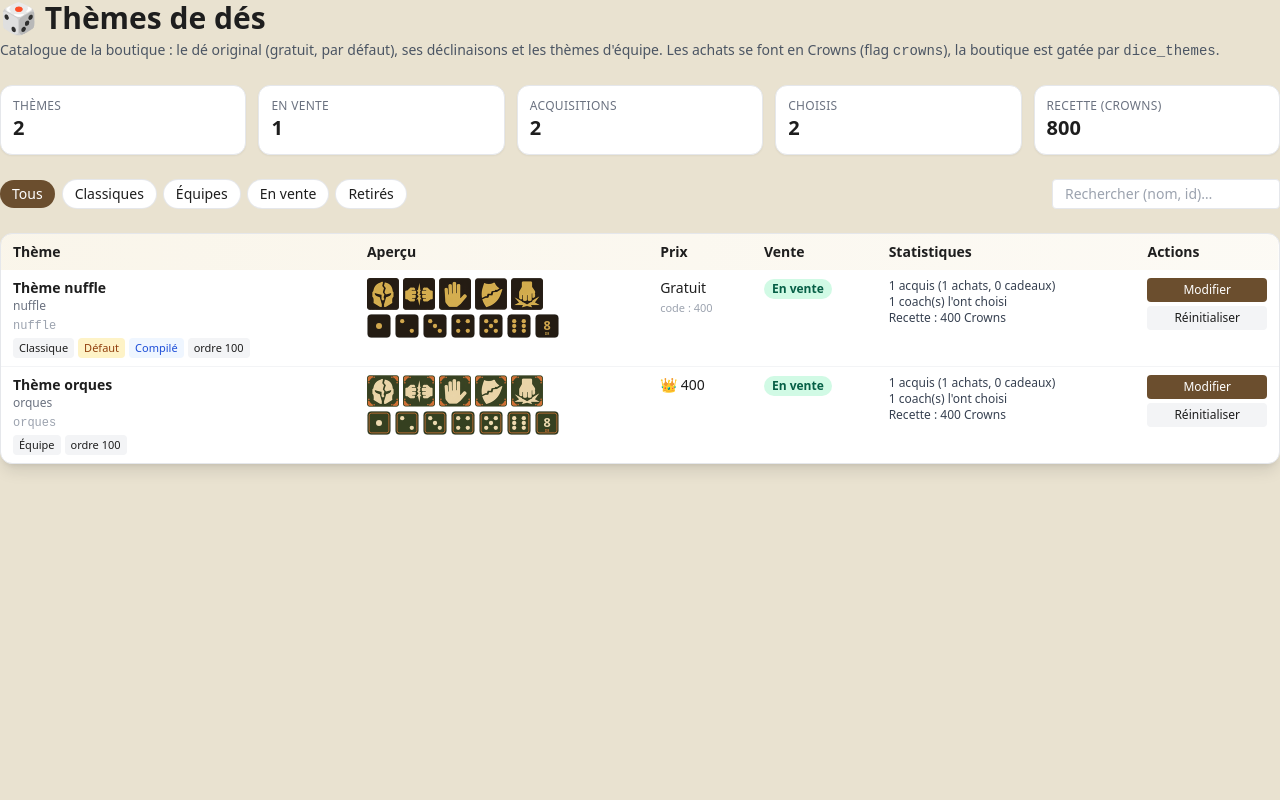
Test case: AdminDiceThemesPage › édite le prix depuis la modale
Click the button with test id "admin-dice-edit-orques".
click(1207, 387)  # box [1148, 375, 1267, 399]
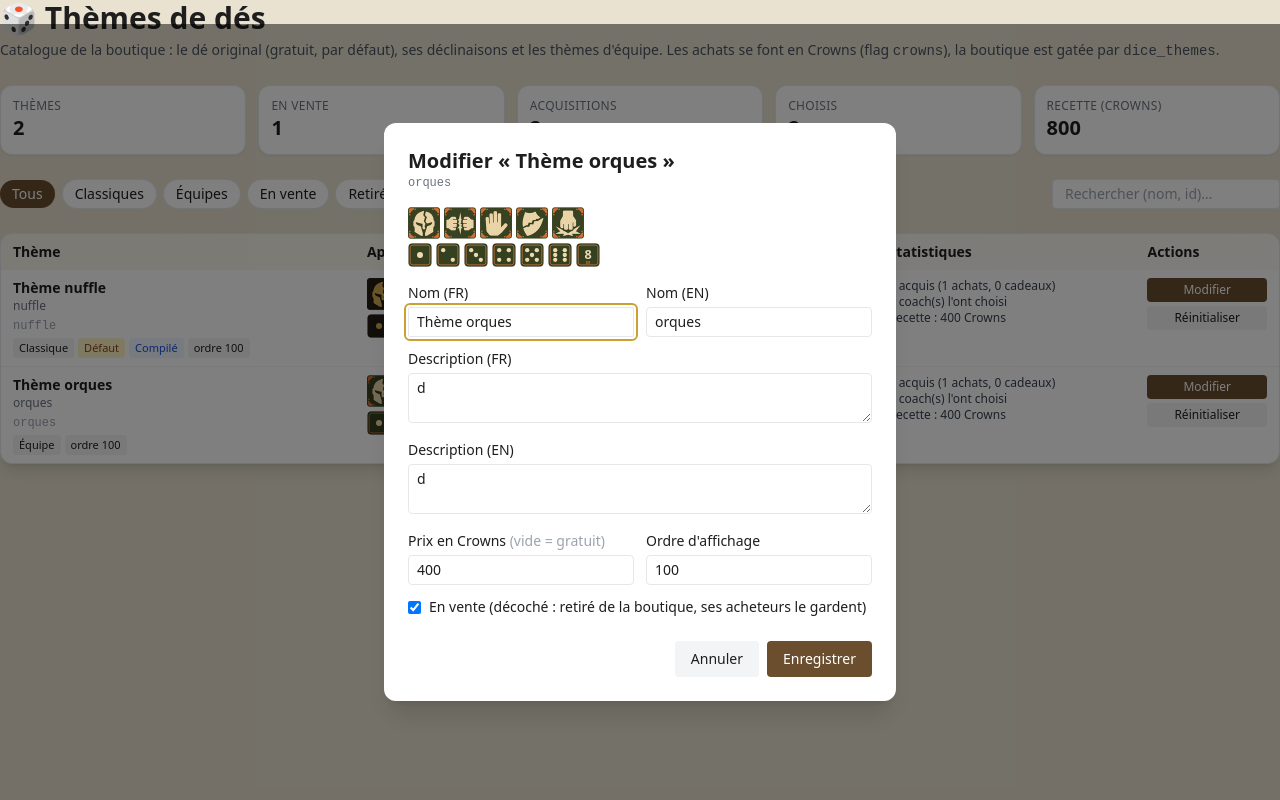
Replace the text in the field with test id "edit-price" with "500" at (521, 570), box [408, 555, 634, 585]
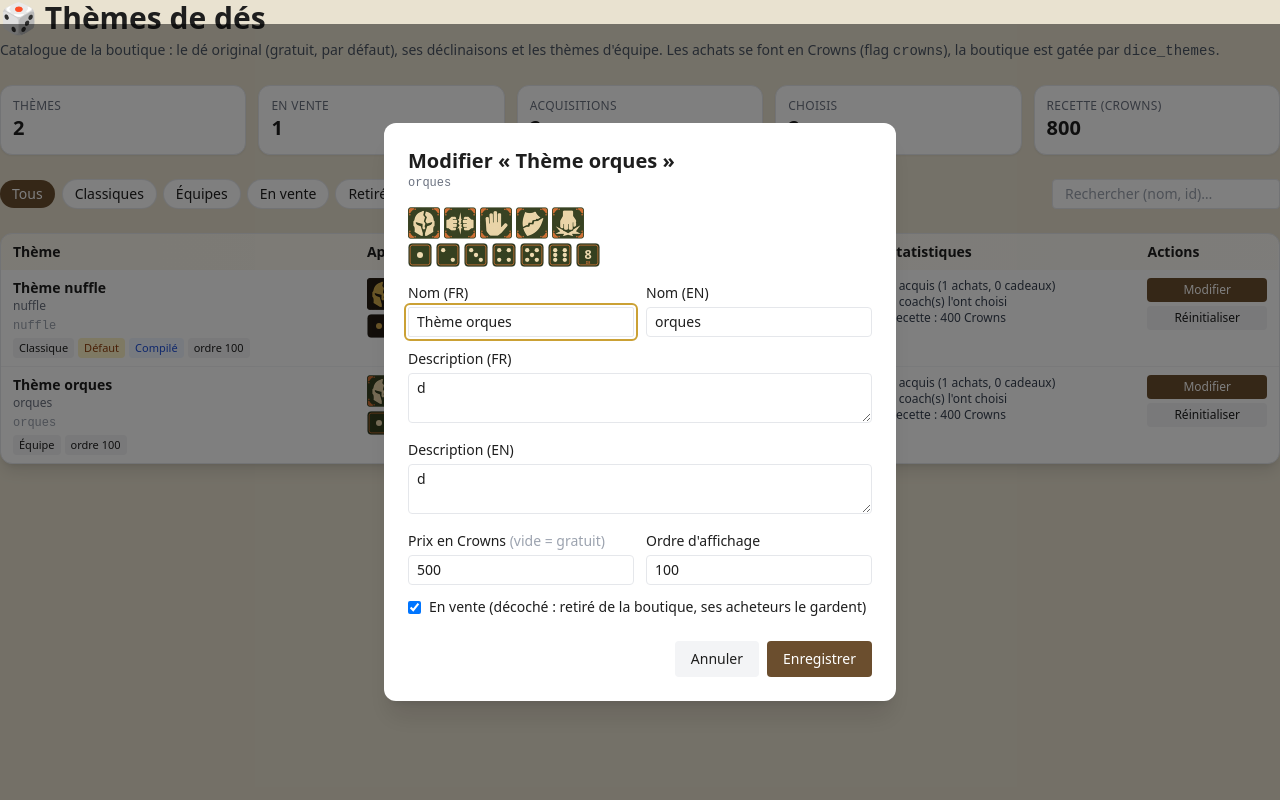
Click the button with test id "edit-save".
click(820, 659)  # box [767, 641, 872, 677]
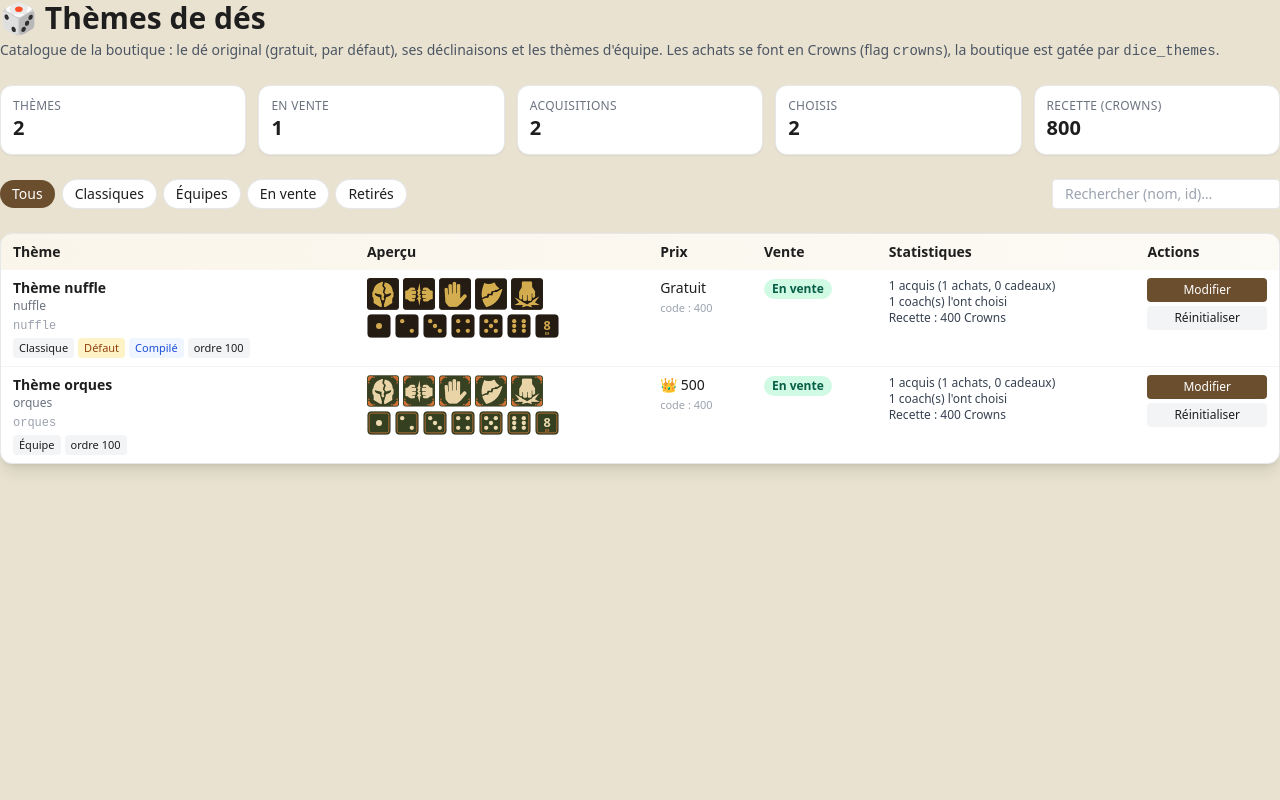
Expected: the form with test id "dice-theme-edit-modal" is gone
